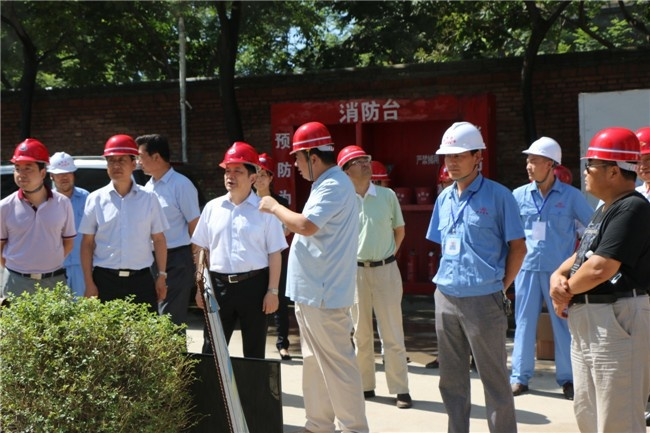none: (133, 132, 173, 180)
red: (580, 127, 638, 198), (292, 122, 336, 179), (7, 137, 50, 194), (217, 140, 260, 195), (104, 133, 138, 183), (336, 142, 374, 185), (630, 124, 650, 185), (253, 153, 274, 191)
white: (437, 121, 487, 181), (525, 134, 560, 183), (46, 151, 77, 192)
